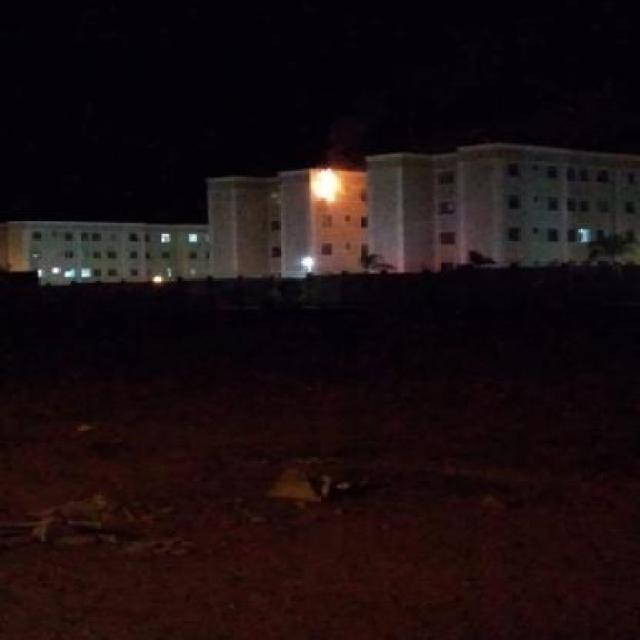Fire: (313, 168, 339, 205)
